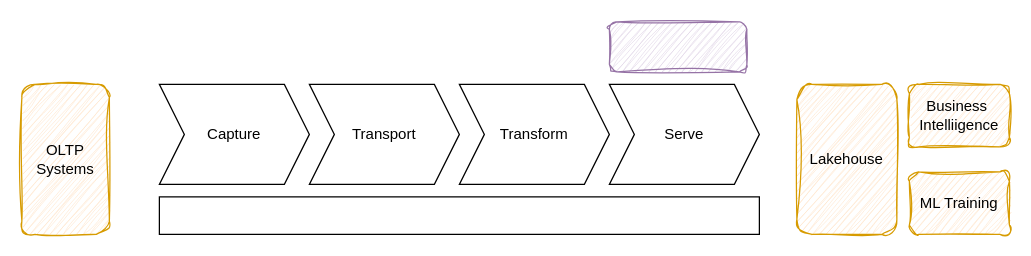
The diagram is 1031 pixels wide and 256 high, and some of its shapes have lost their labels. The shapes that lost their labels are listed below. From the top down, each one's centre as x and y in pixels, then its label:
At point 677,46: "AI Agents".
At point 458,215: "Govern".
